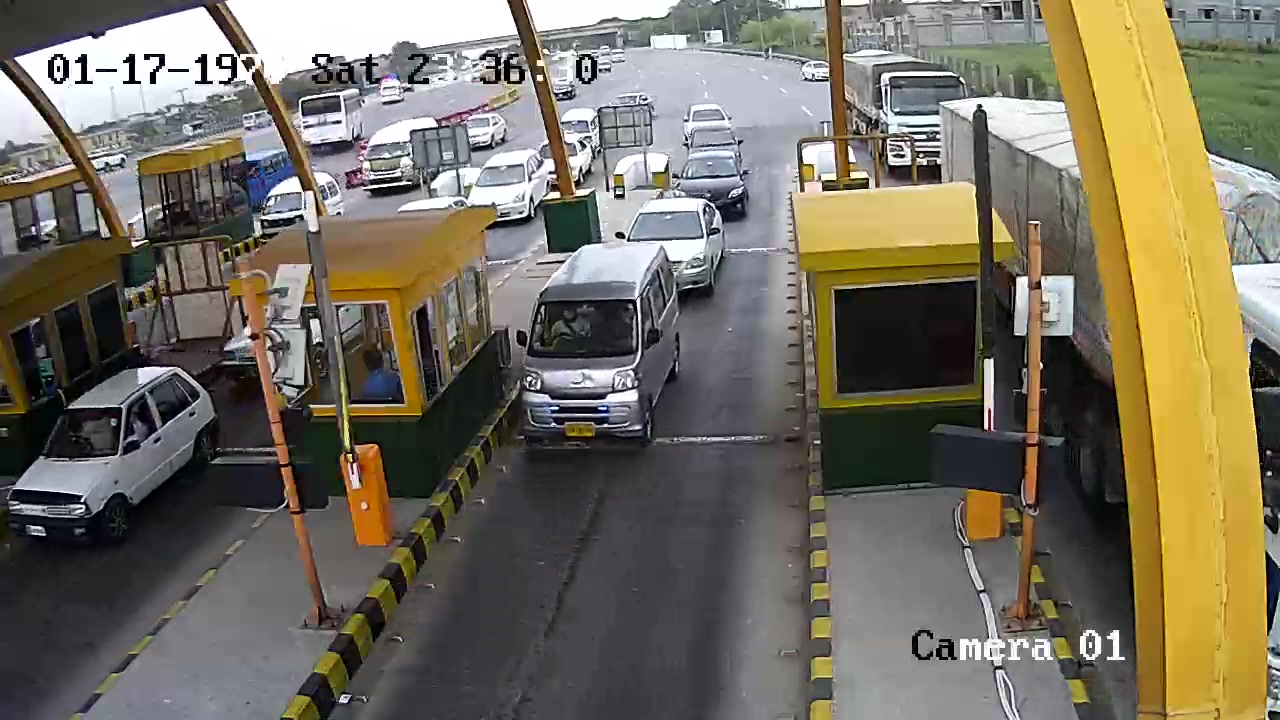F1: (522, 237, 675, 451)
